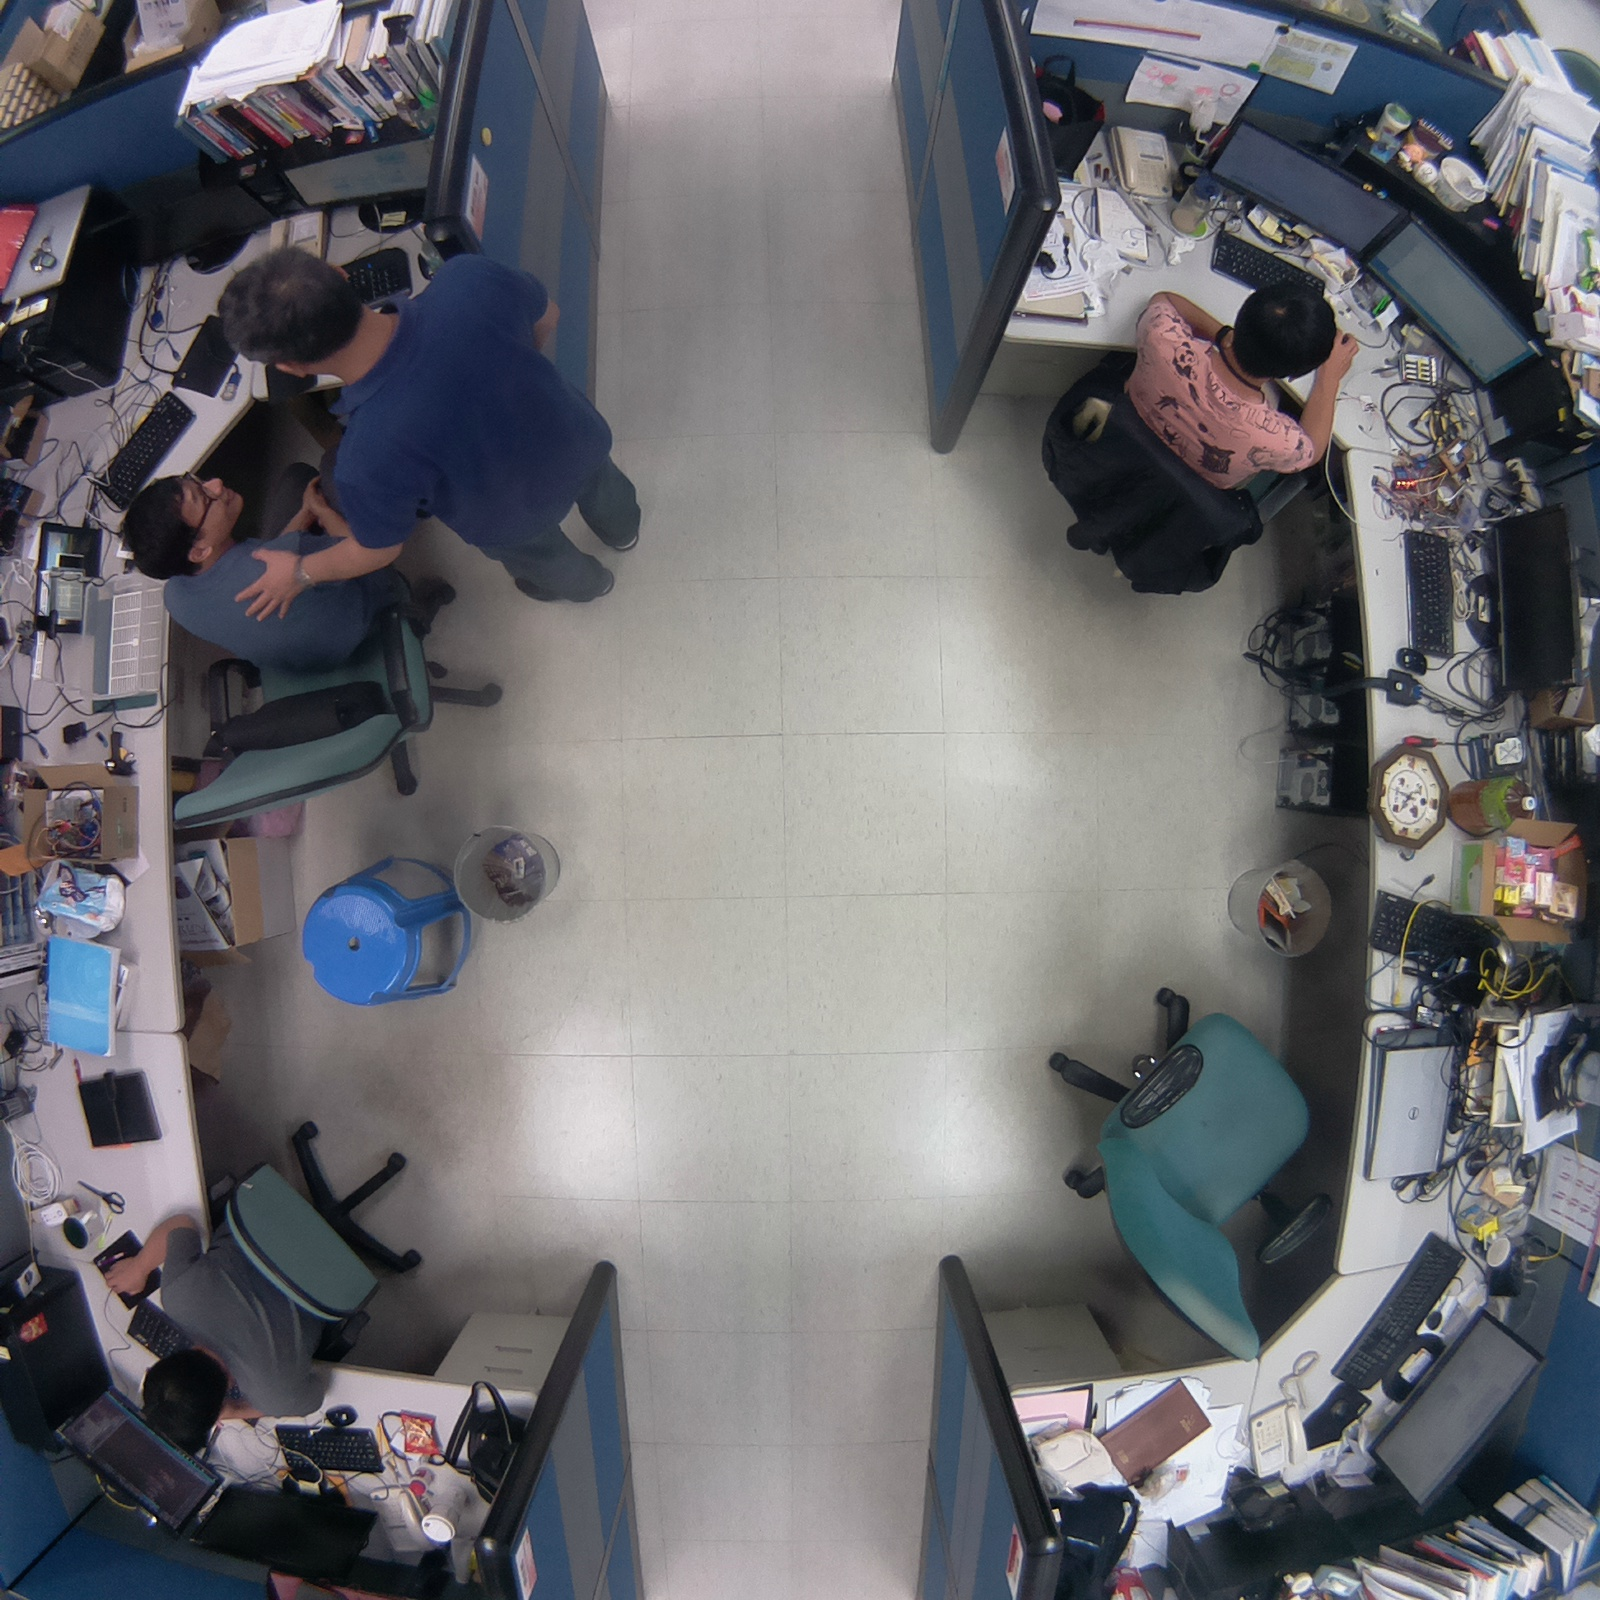chair: (1027, 970, 1327, 1375)
head: (205, 245, 368, 382), (113, 463, 248, 588), (1227, 280, 1346, 388), (135, 1341, 235, 1455)
sitting: (107, 457, 509, 840), (84, 1109, 447, 1441), (1032, 261, 1373, 611)
standing: (213, 237, 647, 618)
